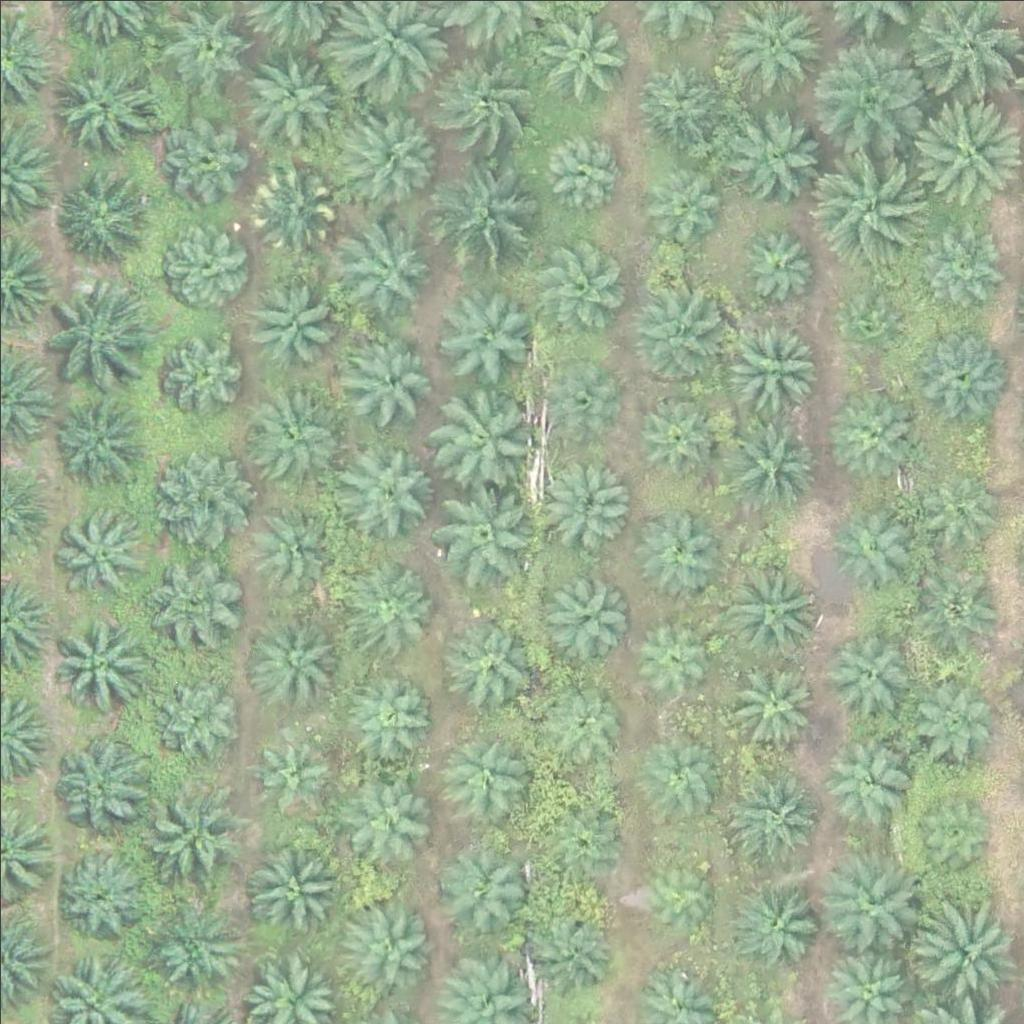Kelapa_Sawit: (427, 375, 540, 489), (37, 272, 150, 385), (815, 37, 928, 150), (908, 95, 1021, 208), (428, 151, 540, 265), (809, 146, 921, 260), (432, 45, 544, 158), (50, 161, 150, 262), (54, 49, 154, 150), (239, 44, 339, 145), (428, 283, 528, 384), (634, 283, 734, 384), (907, 323, 1007, 424), (919, 907, 1019, 1008), (816, 851, 916, 952), (721, 555, 821, 656), (718, 415, 818, 516), (516, 901, 616, 1002), (443, 605, 543, 706), (428, 480, 528, 581), (338, 768, 438, 869), (244, 385, 344, 486), (243, 834, 343, 935), (146, 901, 246, 1002), (143, 790, 243, 891), (144, 552, 244, 653), (146, 448, 246, 549), (43, 613, 143, 714), (50, 498, 150, 599), (46, 389, 146, 490), (345, 102, 445, 202), (720, 317, 820, 417), (726, 101, 826, 201), (337, 443, 437, 543), (53, 732, 153, 832), (539, 125, 627, 214), (729, 874, 817, 963), (347, 336, 435, 424), (346, 220, 434, 308), (531, 236, 619, 324), (637, 163, 725, 251), (916, 215, 1004, 303), (905, 672, 993, 760), (912, 558, 1000, 646), (827, 729, 915, 817), (823, 628, 911, 716), (831, 499, 919, 587), (729, 769, 817, 857), (533, 790, 621, 878), (442, 842, 530, 930), (446, 730, 534, 818), (345, 898, 433, 986), (348, 665, 436, 753), (246, 621, 334, 709), (151, 671, 239, 759), (253, 727, 340, 816), (157, 322, 244, 410), (160, 213, 247, 301), (157, 114, 244, 202), (250, 161, 337, 249), (251, 276, 338, 364), (635, 58, 722, 146), (915, 463, 1002, 551), (912, 781, 999, 869), (825, 383, 912, 471), (727, 655, 814, 743), (632, 391, 719, 479), (632, 509, 719, 597), (625, 613, 712, 701), (637, 736, 724, 824), (538, 673, 625, 761), (539, 564, 626, 652), (542, 456, 629, 544), (350, 558, 437, 646), (252, 500, 339, 588), (57, 850, 144, 938), (639, 854, 714, 930), (740, 225, 815, 301), (540, 358, 615, 434), (842, 294, 904, 357)
